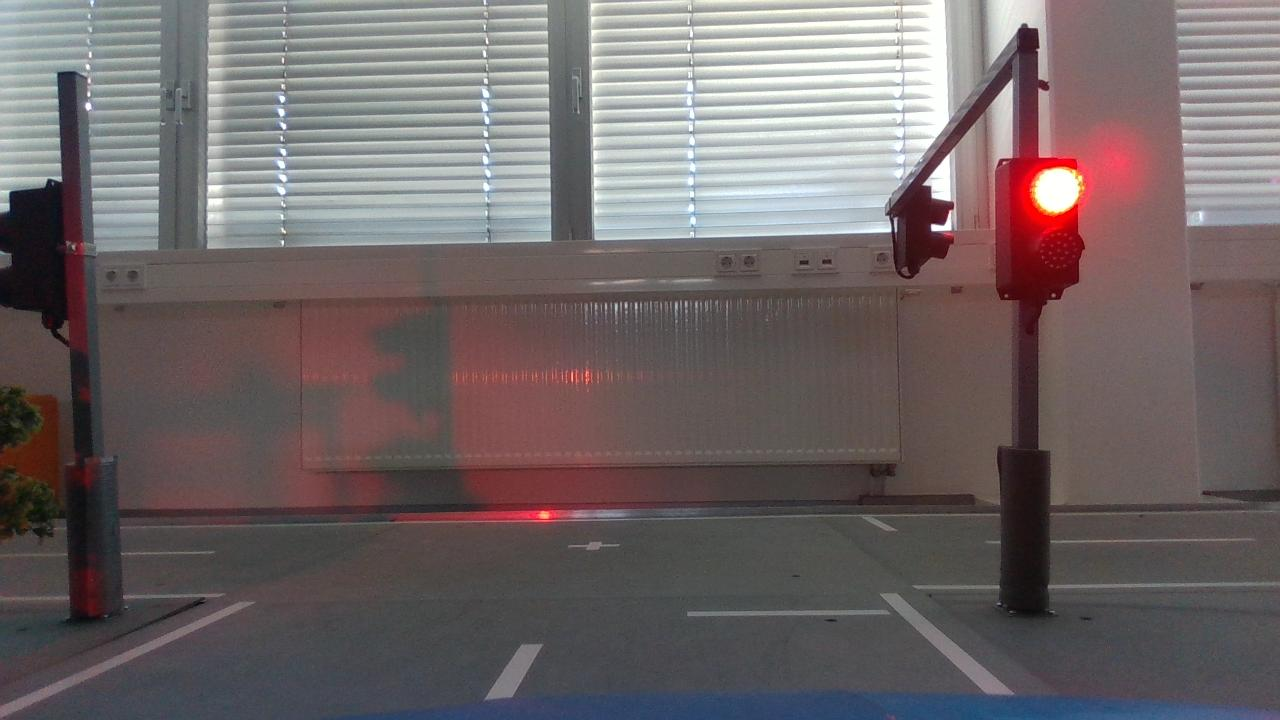traffic_light_red: (981, 147, 1103, 309)
